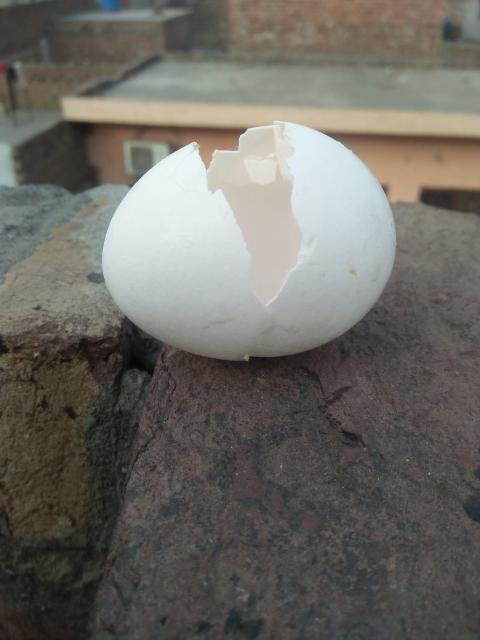Roto: (100, 119, 398, 362)
